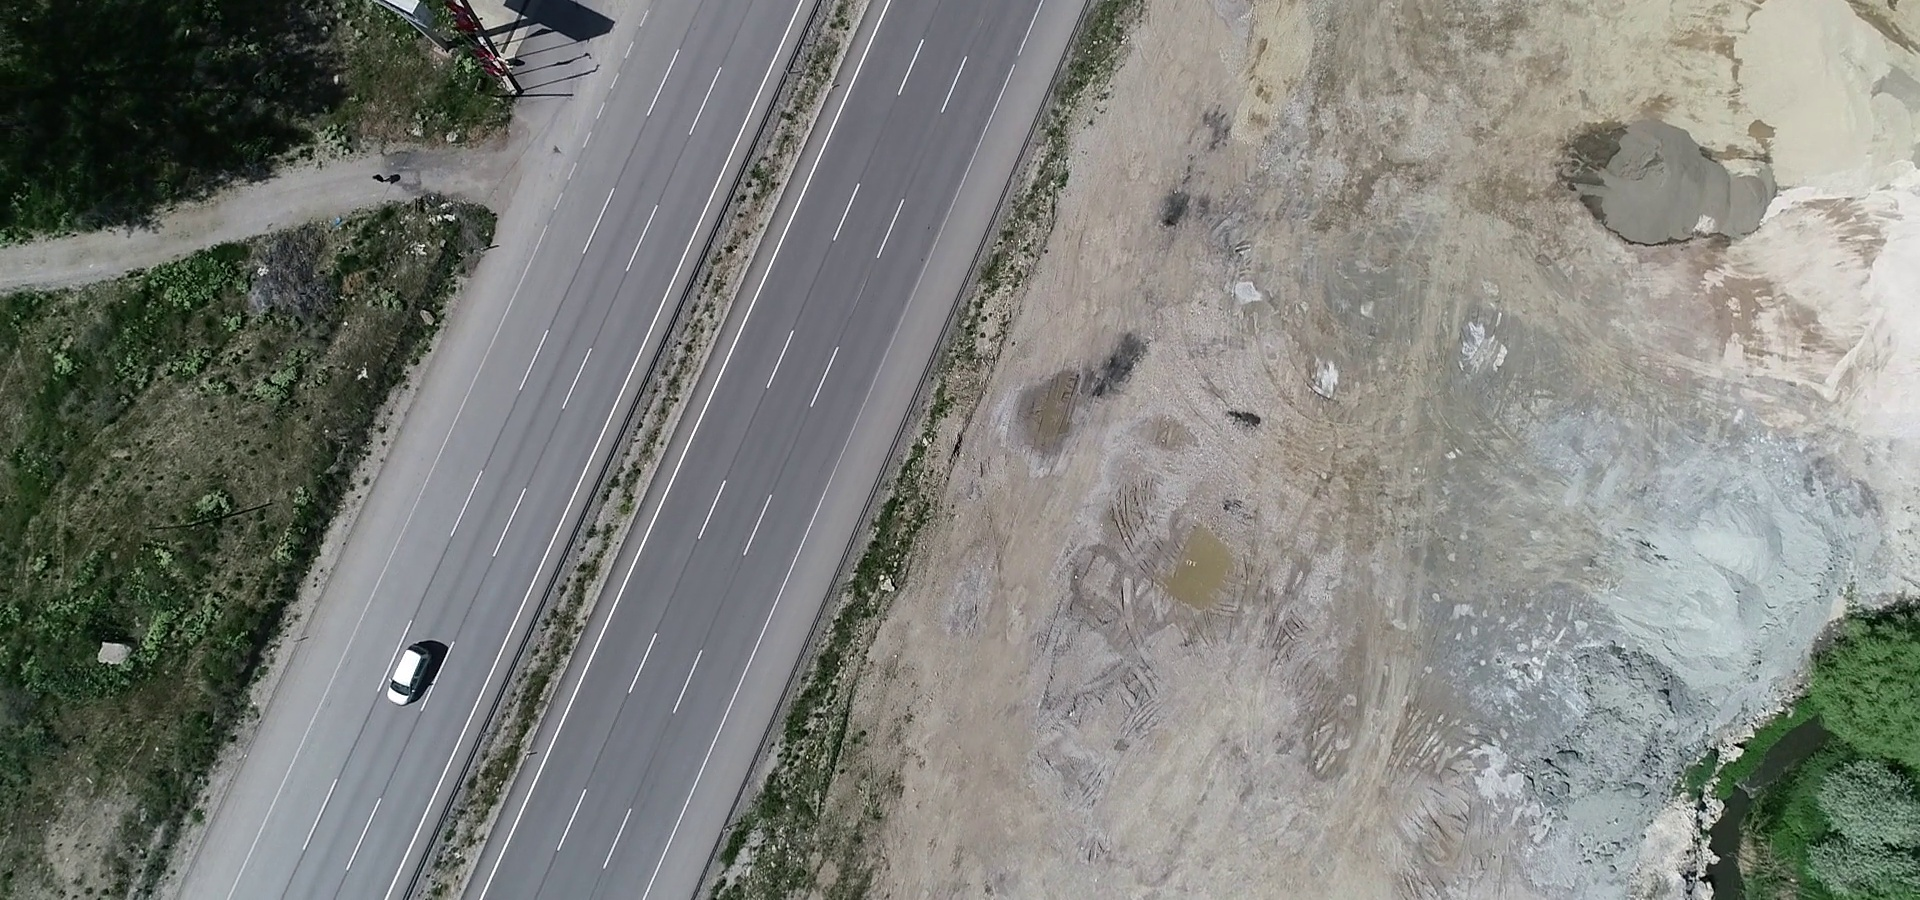araba: (382, 644, 432, 713)
